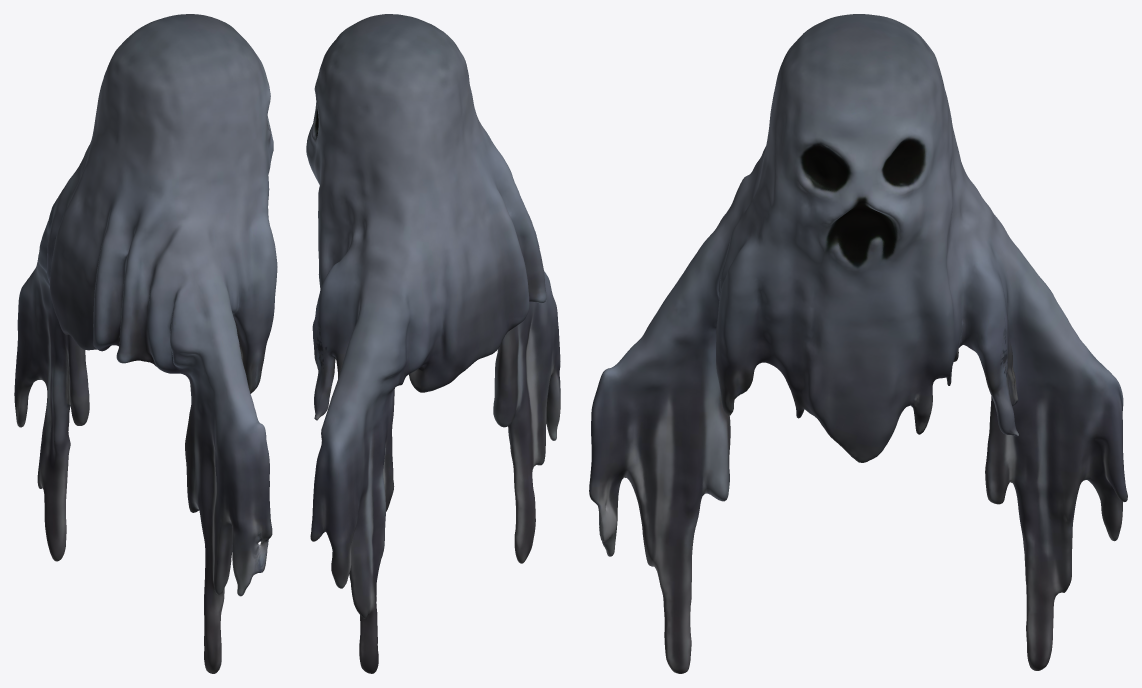
The model's file is GhostFBX.fbx.
3 views of the same model, side by side, from view 1: azimuth 30°, elevation 25°; view 2: azimuth 150°, elevation 25°; view 3: azimuth 270°, elevation 25° (orthographic). The views are drawn at different scales.
Parts seen in each view (by area): view 1: node_e323b5f1_0a8f_4c2e_8e08_d474b4b7ef75_mesh0; view 2: node_e323b5f1_0a8f_4c2e_8e08_d474b4b7ef75_mesh0; view 3: node_e323b5f1_0a8f_4c2e_8e08_d474b4b7ef75_mesh0.
Part boxes in pixels (x1,y1,x2,y2): node_e323b5f1_0a8f_4c2e_8e08_d474b4b7ef75_mesh0: [14, 14, 277, 673]; node_e323b5f1_0a8f_4c2e_8e08_d474b4b7ef75_mesh0: [306, 14, 560, 673]; node_e323b5f1_0a8f_4c2e_8e08_d474b4b7ef75_mesh0: [589, 14, 1127, 673].
Bounding box in the file's own units: 18.19 × 53.19 × 38.24.
1 material, 1 textured.
